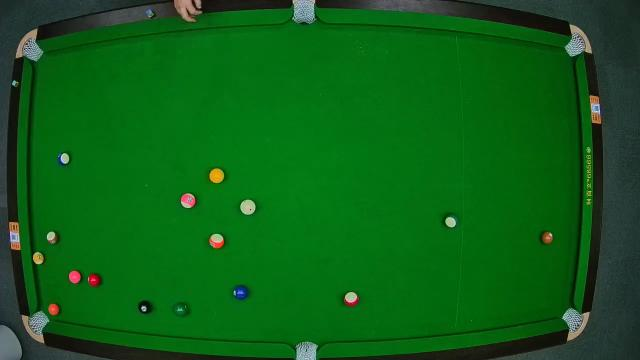bag1: (22, 40, 42, 61)
bag2: (292, 0, 316, 24)
bag3: (566, 32, 586, 56)
bag4: (29, 310, 47, 334)
bag5: (296, 340, 318, 360)
bag6: (562, 308, 584, 332)
ball0: (242, 199, 256, 215)
ball1: (209, 168, 225, 184)
ball10: (58, 152, 70, 166)
ball11: (344, 291, 360, 307)
ball12: (180, 192, 196, 208)
ball13: (209, 233, 225, 249)
ball14: (442, 212, 460, 229)
ball15: (46, 230, 58, 244)
ball2: (233, 284, 249, 300)
ball3: (88, 273, 100, 287)
ball4: (68, 270, 82, 286)
ball5: (48, 304, 60, 317)
ball6: (173, 300, 190, 318)
ball7: (541, 229, 553, 244)
ball8: (138, 299, 152, 315)
ball9: (33, 251, 45, 265)
